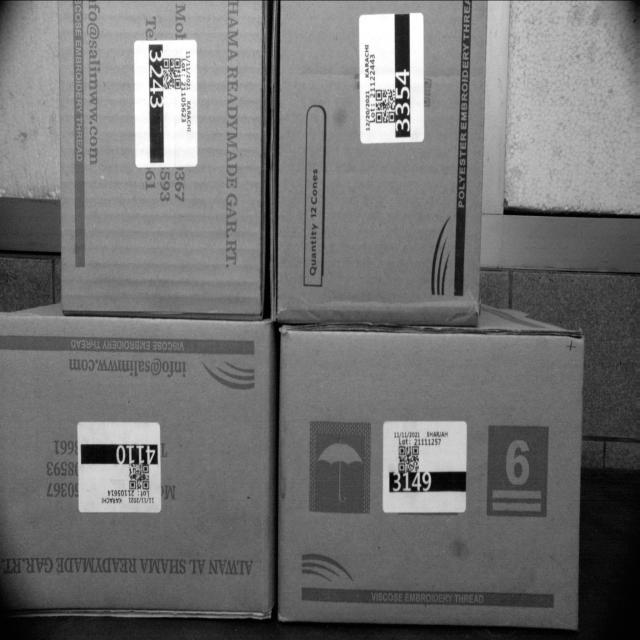box: (276, 328, 582, 629), (0, 314, 272, 618), (62, 0, 270, 317), (274, 0, 476, 323)
